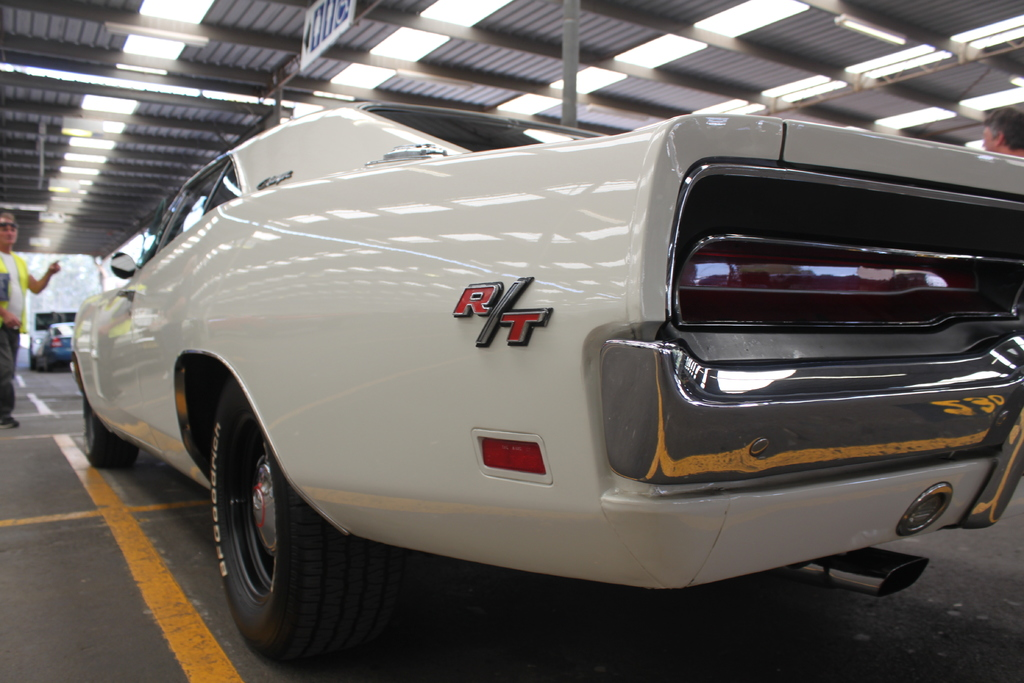Car: (80, 101, 1018, 661)
